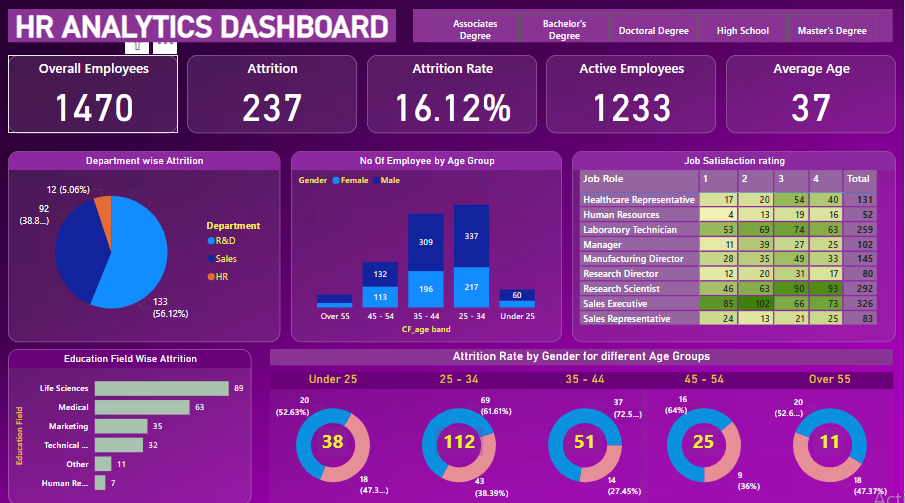

The dashboard page shown, as its layout file describes it:
{"tool":"powerbi","page":{"name":"Page 1","canvas":[1280,720],"ordinal":0},"visuals":[{"type":"card","title":"Attrition","fields":{"Values":["Sum(HR DATA.Attrition count)"]},"box":[265,82.2,240.9,110.6],"z":0},{"type":"card","title":"Overall Employees","fields":{"Values":["Sum(HR DATA.Employee Count)"]},"box":[11.3,82.2,240.9,110.6],"z":1000},{"type":"card","title":"Attrition Rate","fields":{"Values":["HR DATA.Attrition Rate"]},"box":[520.2,82.2,240.9,110.6],"z":2000},{"type":"card","title":"Active Employees","fields":{"Values":["HR DATA.Active Employees"]},"box":[773.9,82.2,240.9,110.6],"z":3000},{"type":"card","title":"Average Age","fields":{"Values":["Avg(HR DATA.Age)"]},"box":[1029,82.2,240.9,110.6],"z":4000},{"type":"pieChart","title":"Department wise Attrition","fields":{"Category":["HR DATA.Department"],"Y":["Sum(HR DATA.Attrition count)"]},"box":[11.3,218.3,385.5,270.7],"z":5000},{"type":"columnChart","title":"No Of Employee by Age Group","fields":{"Category":["HR DATA.CF_age band"],"Y":["Sum(HR DATA.Employee Count)"],"Series":["HR DATA.Gender"]},"box":[412.4,218.3,384.1,270.7],"z":6000},{"type":"pivotTable","title":"Job Satisfaction rating","fields":{"Rows":["HR DATA.Job Role"],"Columns":["HR DATA.Job Satisfaction"],"Values":["Sum(HR DATA.Employee Count)"]},"box":[810.7,218.3,459.2,270.7],"z":7000},{"type":"barChart","title":"Education Field Wise Attrition ","fields":{"Category":["HR DATA.Education Field"],"Y":["Sum(HR DATA.Attrition count)"]},"box":[11.3,498.9,345,222],"z":8000},{"type":"donutChart","title":"Under 25","fields":{"Category":["HR DATA.Gender"],"Y":["Sum(HR DATA.Attrition count)"],"Series":["HR DATA.CF_age band"]},"box":[382.7,531.5,178.6,188.5],"z":9000},{"type":"textbox","title":"Attrition Rate by Gender for different Age Groups","box":[382.7,498.9,883,22.7],"z":10000},{"type":"donutChart","title":" 25 - 34","fields":{"Category":["HR DATA.Gender"],"Y":["Sum(HR DATA.Attrition count)"],"Series":["HR DATA.CF_age band"]},"box":[561.3,531.5,178.6,188.5],"z":11000},{"type":"donutChart","title":"35 - 44","fields":{"Category":["HR DATA.Gender"],"Y":["Sum(HR DATA.Attrition count)"],"Series":["HR DATA.CF_age band"]},"box":[739.8,531.5,178.6,188.5],"z":12000},{"type":"donutChart","title":"45 - 54","fields":{"Category":["HR DATA.Gender"],"Y":["Sum(HR DATA.Attrition count)"],"Series":["HR DATA.CF_age band"]},"box":[908.5,531.5,178.6,188.5],"z":13000},{"type":"donutChart","title":"Over 55","fields":{"Category":["HR DATA.Gender"],"Y":["Sum(HR DATA.Attrition count)"],"Series":["HR DATA.CF_age band"]},"box":[1087.1,531.5,178.6,188.5],"z":14000},{"type":"card","fields":{"Values":["Sum(HR DATA.Attrition count)"]},"box":[449.3,609.4,43.9,41.1],"z":15000},{"type":"card","fields":{"Values":["Sum(HR DATA.Attrition count)"]},"box":[616.5,609.4,68,41.1],"z":16000},{"type":"card","fields":{"Values":["Sum(HR DATA.Attrition count)"]},"box":[802.2,609.4,52.4,41.1],"z":17000},{"type":"card","fields":{"Values":["Sum(HR DATA.Attrition count)"]},"box":[975.1,609.4,43.9,41.1],"z":18000},{"type":"card","fields":{"Values":["Sum(HR DATA.Attrition count)"]},"box":[1153.7,609.4,43.9,41.1],"z":19000},{"type":"textbox","title":"HR ANALYTICS DASHBOARD","box":[11.3,17,549.9,46.8],"z":20000},{"type":"slicer","fields":{"Values":["HR DATA.Education"]},"box":[585.4,17,680.3,46.8],"z":21000}]}

Visuals, with their boxes in screenshot pixels (x1, y1, x2, y2), scaled from the page's 1280x720 canvas onto the 905x503 screenshot:
"Attrition" card: {"left": 187, "top": 57, "right": 358, "bottom": 135}
"Overall Employees" card: {"left": 8, "top": 57, "right": 178, "bottom": 135}
"Attrition Rate" card: {"left": 368, "top": 57, "right": 538, "bottom": 135}
"Active Employees" card: {"left": 547, "top": 57, "right": 717, "bottom": 135}
"Average Age" card: {"left": 728, "top": 57, "right": 898, "bottom": 135}
"Department wise Attrition" pieChart: {"left": 8, "top": 153, "right": 281, "bottom": 342}
"No Of Employee by Age Group" columnChart: {"left": 292, "top": 153, "right": 563, "bottom": 342}
"Job Satisfaction rating" pivotTable: {"left": 573, "top": 153, "right": 898, "bottom": 342}
"Education Field Wise Attrition " barChart: {"left": 8, "top": 349, "right": 252, "bottom": 502}
"Under 25" donutChart: {"left": 271, "top": 371, "right": 397, "bottom": 502}
"Attrition Rate by Gender for different Age Groups" textbox: {"left": 271, "top": 349, "right": 895, "bottom": 364}
" 25 - 34" donutChart: {"left": 397, "top": 371, "right": 523, "bottom": 502}
"35 - 44" donutChart: {"left": 523, "top": 371, "right": 649, "bottom": 502}
"45 - 54" donutChart: {"left": 642, "top": 371, "right": 769, "bottom": 502}
"Over 55" donutChart: {"left": 769, "top": 371, "right": 895, "bottom": 502}
card - Sum(HR DATA.Attrition count): {"left": 318, "top": 426, "right": 349, "bottom": 454}
card - Sum(HR DATA.Attrition count): {"left": 436, "top": 426, "right": 484, "bottom": 454}
card - Sum(HR DATA.Attrition count): {"left": 567, "top": 426, "right": 604, "bottom": 454}
card - Sum(HR DATA.Attrition count): {"left": 689, "top": 426, "right": 720, "bottom": 454}
card - Sum(HR DATA.Attrition count): {"left": 816, "top": 426, "right": 847, "bottom": 454}
"HR ANALYTICS DASHBOARD" textbox: {"left": 8, "top": 12, "right": 397, "bottom": 45}
slicer - HR DATA.Education: {"left": 414, "top": 12, "right": 895, "bottom": 45}
